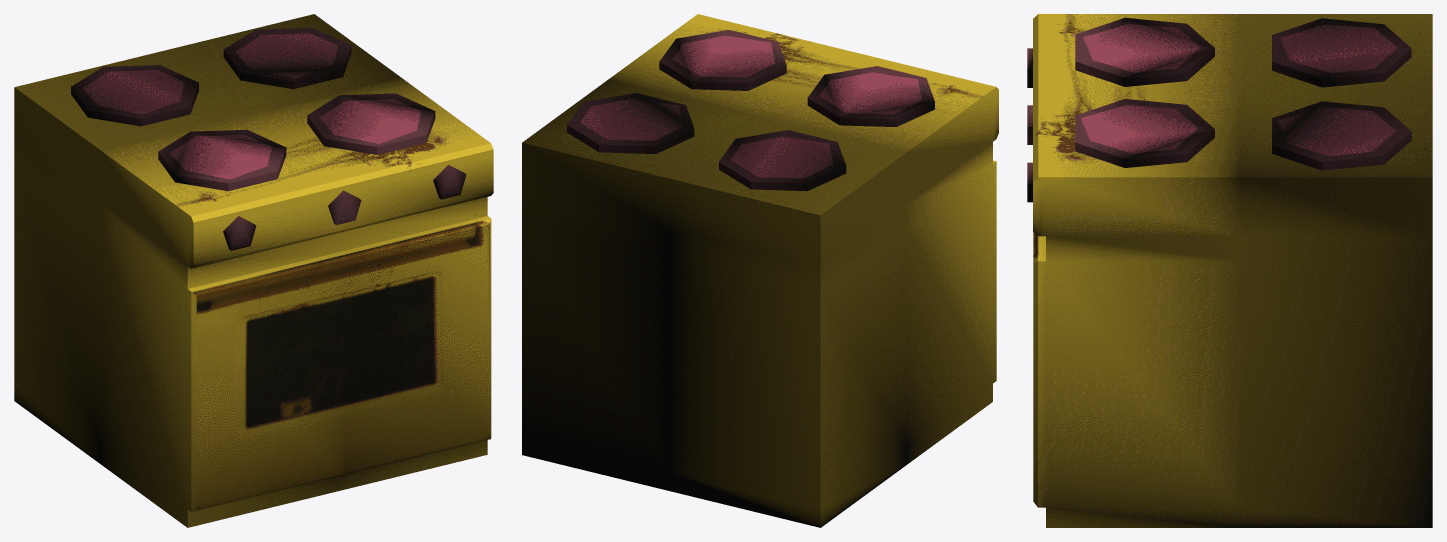
Rendered from LD56_Oven.fbx.
3 views of the same model, side by side, from view 1: azimuth 30°, elevation 25°; view 2: azimuth 150°, elevation 25°; view 3: azimuth 270°, elevation 25° (orthographic). The views are drawn at different scales.
Parts seen in each view (by area): view 1: oven; view 2: oven; view 3: oven.
Boxes of the visible parts, <box> form: oven: <box>14,14,493,527</box>; oven: <box>522,14,998,527</box>; oven: <box>1027,14,1432,527</box>.
Size of the model in its own units: 200 by 205 by 210.
